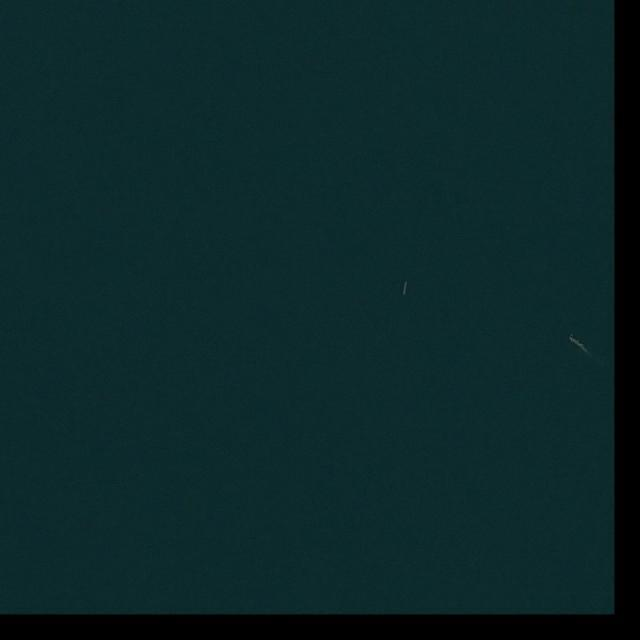ship: (568, 335, 581, 347), (403, 282, 407, 297)
